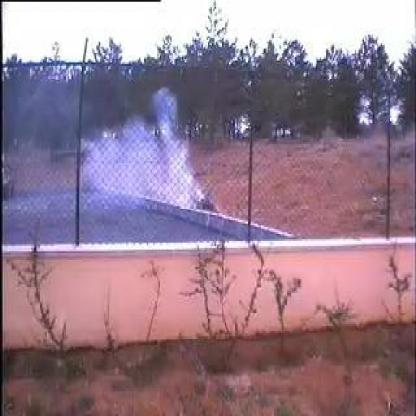-: (78, 89, 206, 206)
